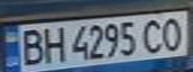2: (84, 21, 106, 61)
4: (66, 21, 90, 62)
5: (118, 19, 142, 57)
9: (103, 20, 124, 58)
B: (15, 26, 48, 68)
C: (139, 16, 169, 55)
H: (36, 24, 69, 64)
O: (157, 15, 190, 52)
